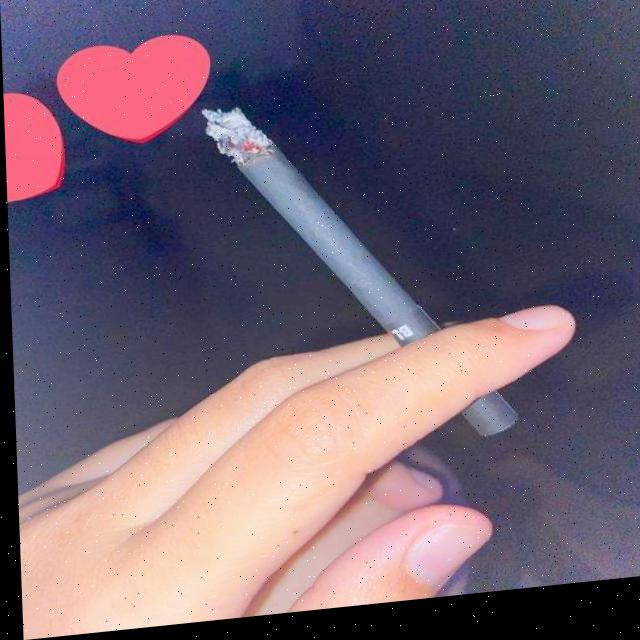cigarette: (202, 89, 514, 466)
